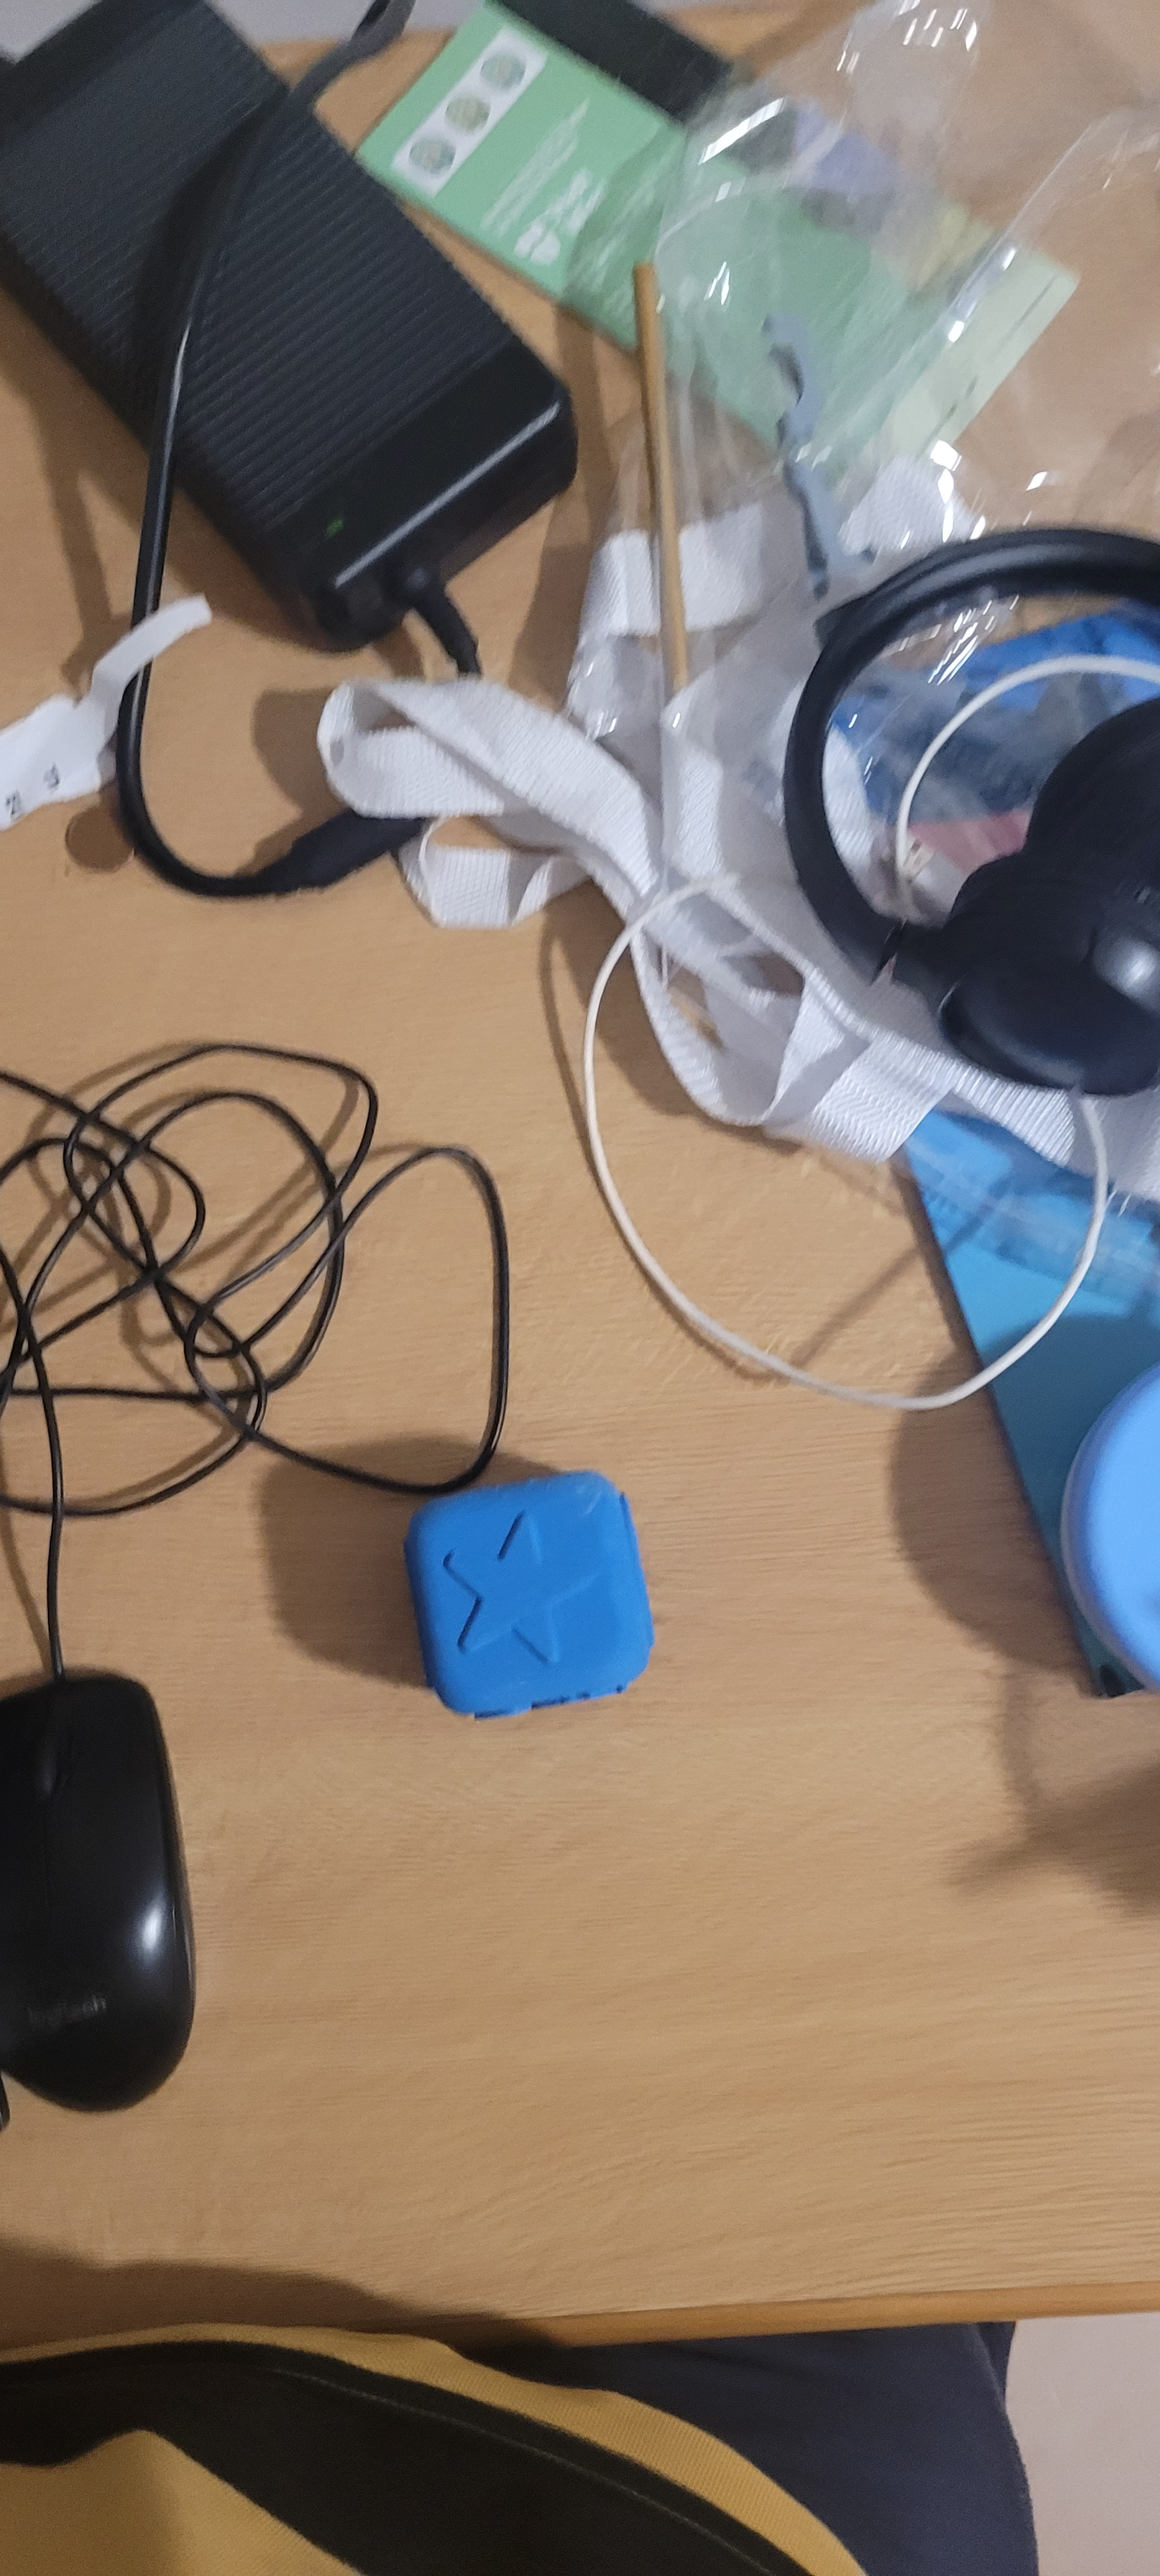Star: (407, 1510, 636, 1682)
